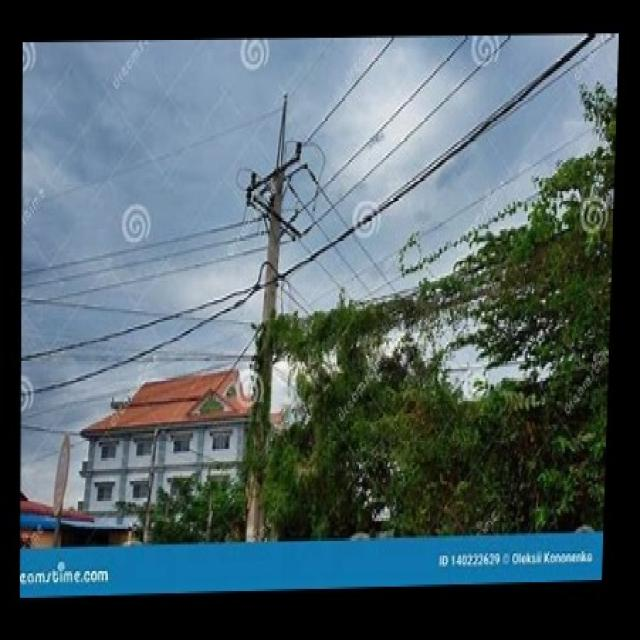critical vegetation: (252, 276, 610, 420)
